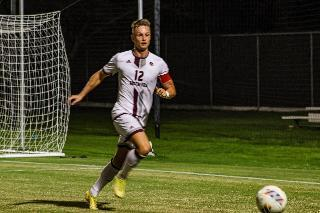person - v3 P: (68, 19, 176, 209)
